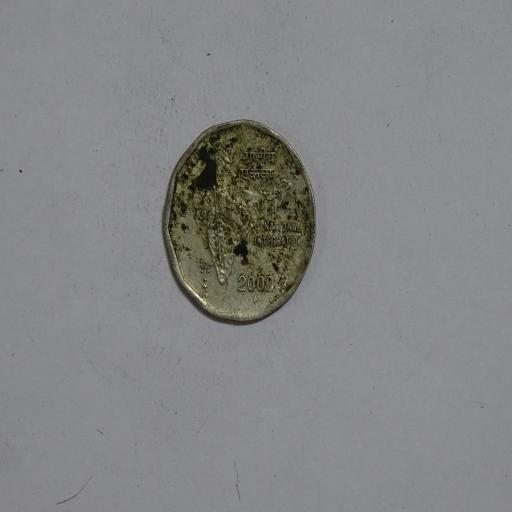rupee2: (156, 118, 318, 328)
